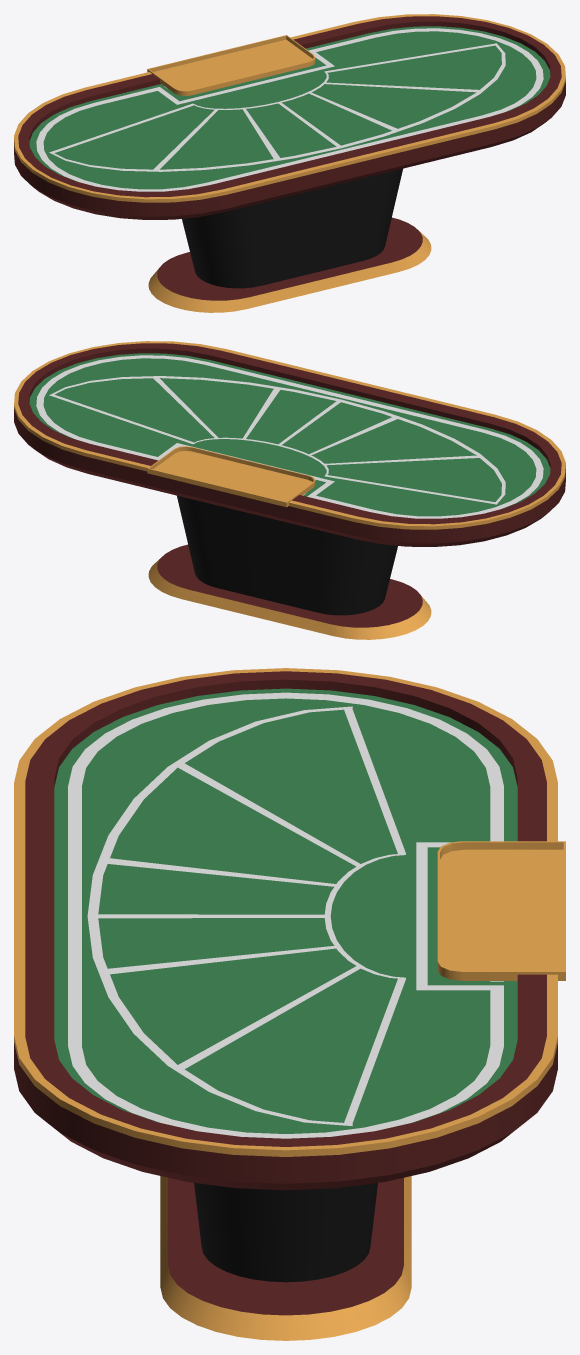
Rendered from pokertable.fbx.
3 renders of one model, top to bottom at view 1: azimuth 30°, elevation 25°; view 2: azimuth 150°, elevation 25°; view 3: azimuth 270°, elevation 25°, orthographic. The views are drawn at different scales.
Visible parts, largest first — view 1: casino table; view 2: casino table; view 3: casino table.
Part boxes in pixels (box(x1,y1,x2,y2)): casino table: box(14, 14, 565, 312); casino table: box(14, 341, 565, 639); casino table: box(14, 668, 565, 1340).
Bounding box in the file's own units: 250 × 74.88 × 121.
